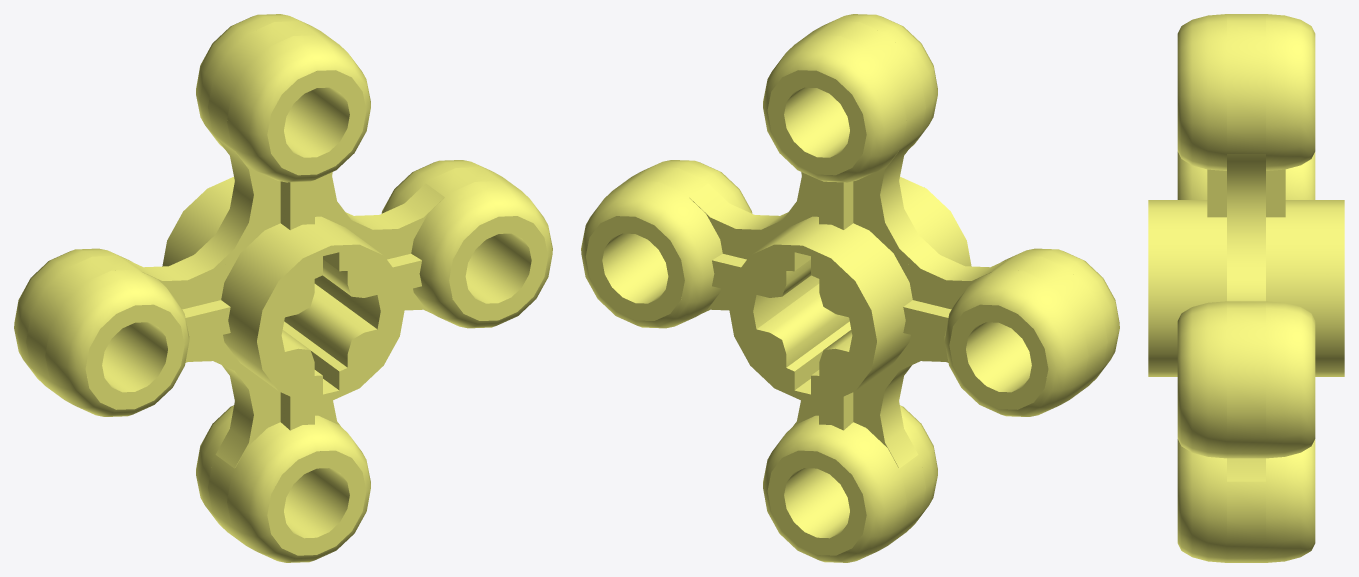
The picture shows the model from 3 angles, left to right: view 1: azimuth 30°, elevation 25°; view 2: azimuth 150°, elevation 25°; view 3: azimuth 270°, elevation 25°; orthographic projection. The views are drawn at different scales.
Visible parts, largest first — view 1: 32072.dat; view 2: 32072.dat; view 3: 32072.dat.
Part boxes in pixels (x1=…): 32072.dat: x1=14, y1=14, x2=552, y2=562; 32072.dat: x1=581, y1=14, x2=1119, y2=562; 32072.dat: x1=1148, y1=14, x2=1344, y2=562.
Bounding box in the file's own units: 0.024 × 0.024 × 0.008.
